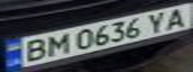0: (72, 27, 96, 52)
3: (109, 19, 130, 44)
6: (124, 15, 148, 39), (93, 22, 115, 47)
A: (160, 6, 193, 30)
B: (15, 36, 51, 64)
M: (39, 33, 72, 57)
Y: (142, 10, 175, 34)
